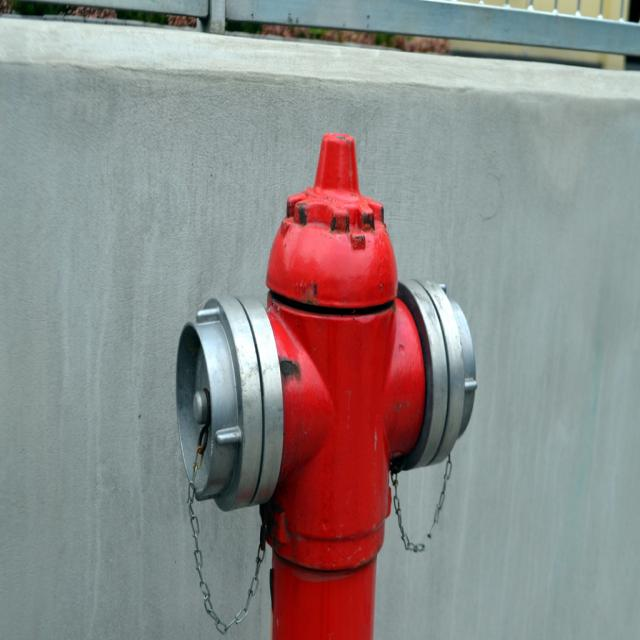fire_hydrant: (174, 130, 478, 640)
